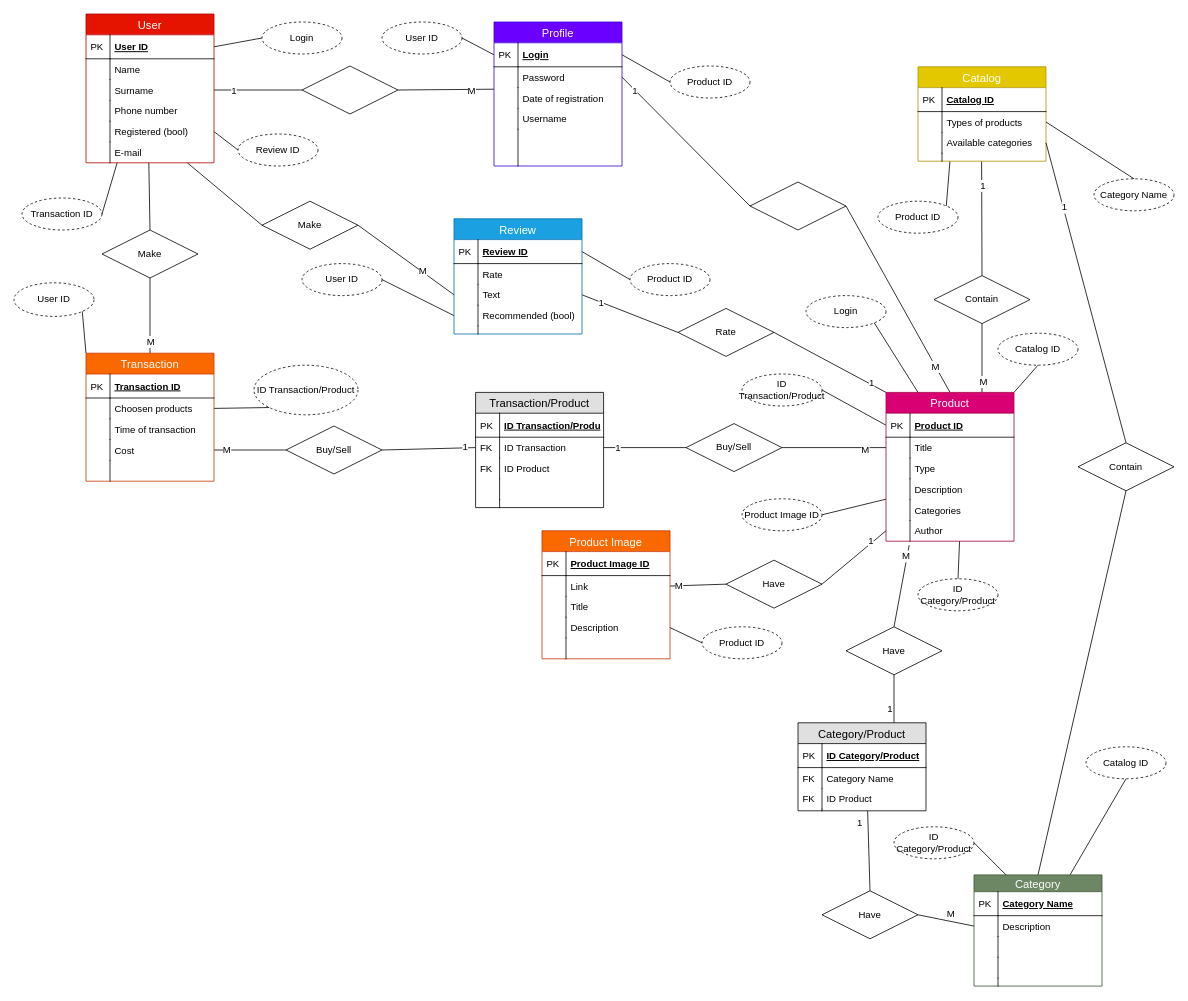
This 1188x1001 diagram has some shape labels left out. The centre of each missing label's shape, as x and y in pixels:
"Add/Remove" belongs at pixel 797 205.
"Create" belongs at pixel 349 89.
